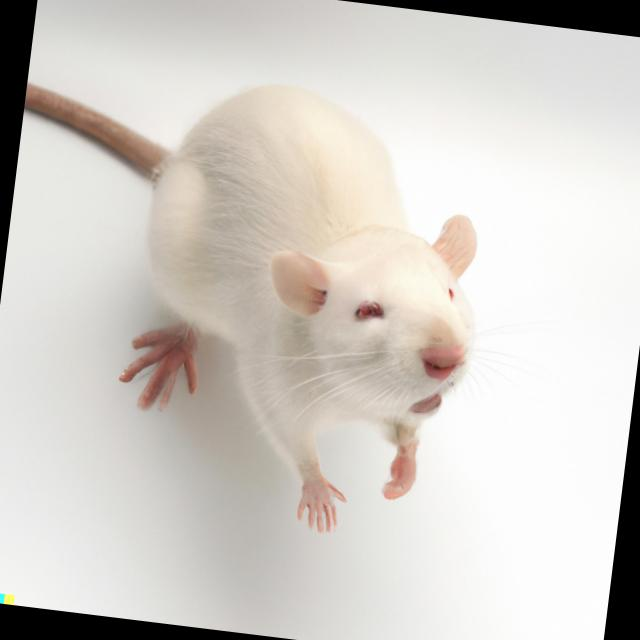rodents: (94, 54, 532, 544)
